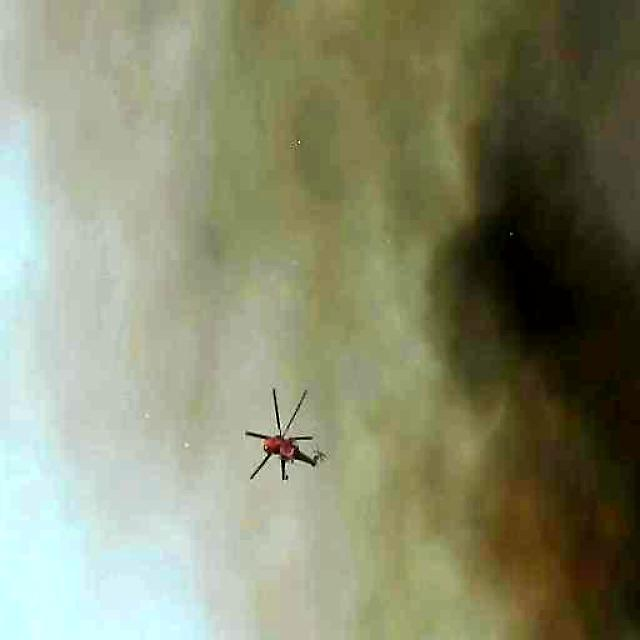drone: (239, 378, 322, 494)
